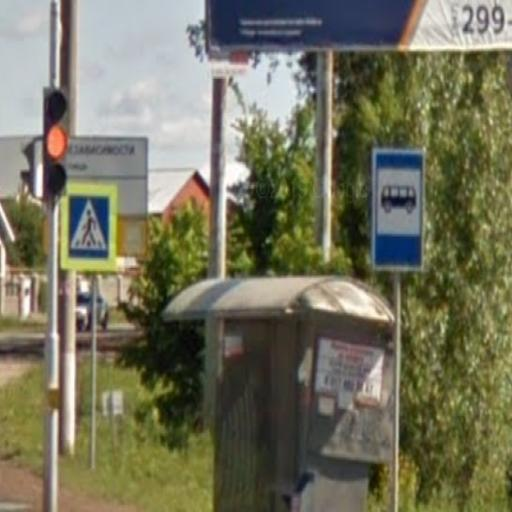traffic_sign: (371, 148, 425, 275), (60, 180, 119, 275)
